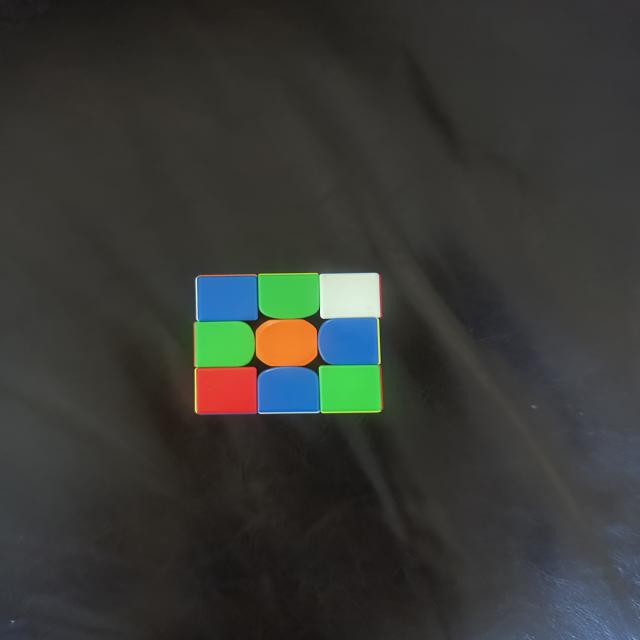sticker: (193, 366, 260, 417), (318, 365, 384, 414), (317, 272, 383, 321), (195, 274, 259, 324), (193, 320, 256, 370), (254, 319, 318, 368), (256, 273, 321, 321), (256, 366, 320, 414), (318, 318, 380, 366)
